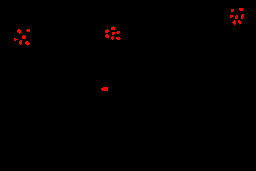Target: (101, 87, 108, 91), (232, 20, 236, 25), (17, 29, 21, 34), (25, 41, 30, 45), (111, 26, 115, 30), (105, 29, 109, 33), (105, 34, 109, 38), (22, 35, 26, 39), (241, 14, 244, 19), (116, 37, 121, 40), (19, 40, 22, 45), (239, 8, 243, 11), (235, 15, 238, 19), (238, 20, 241, 24), (26, 29, 30, 32), (116, 31, 120, 34), (111, 36, 114, 40), (231, 9, 234, 12), (230, 15, 233, 18), (112, 32, 115, 35), (14, 38, 17, 41)
